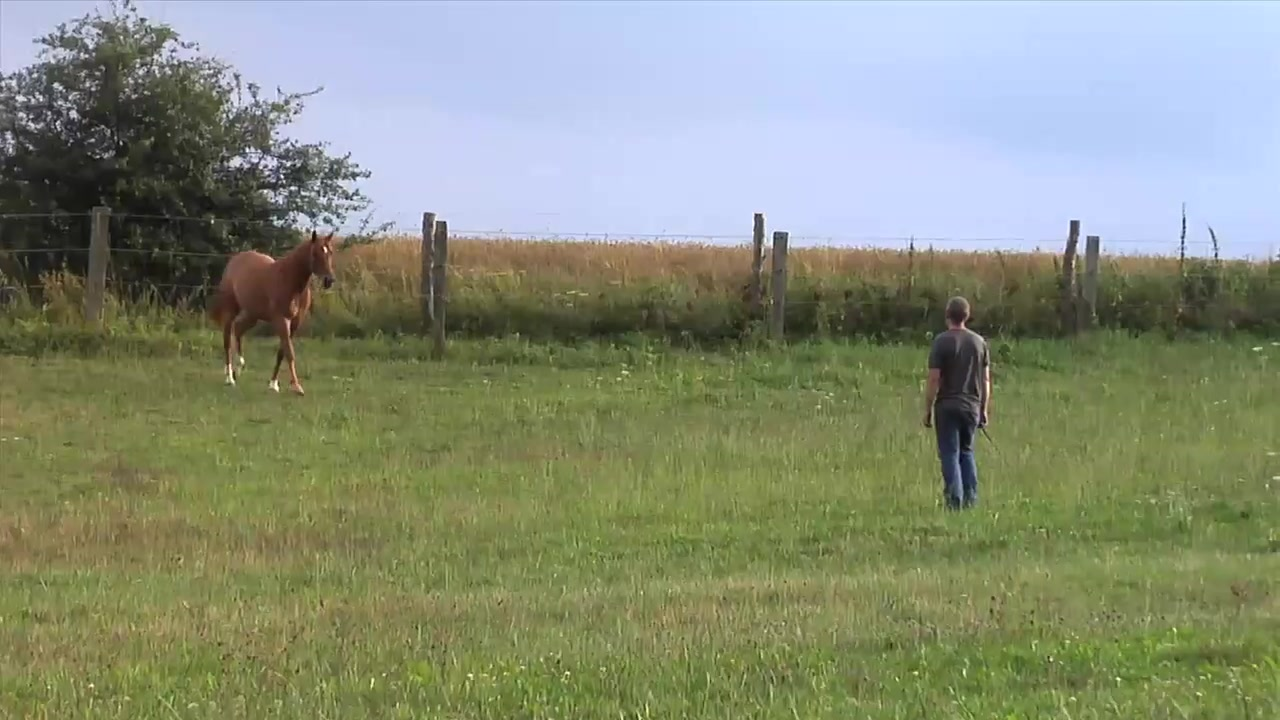horse: (205, 228, 341, 398)
